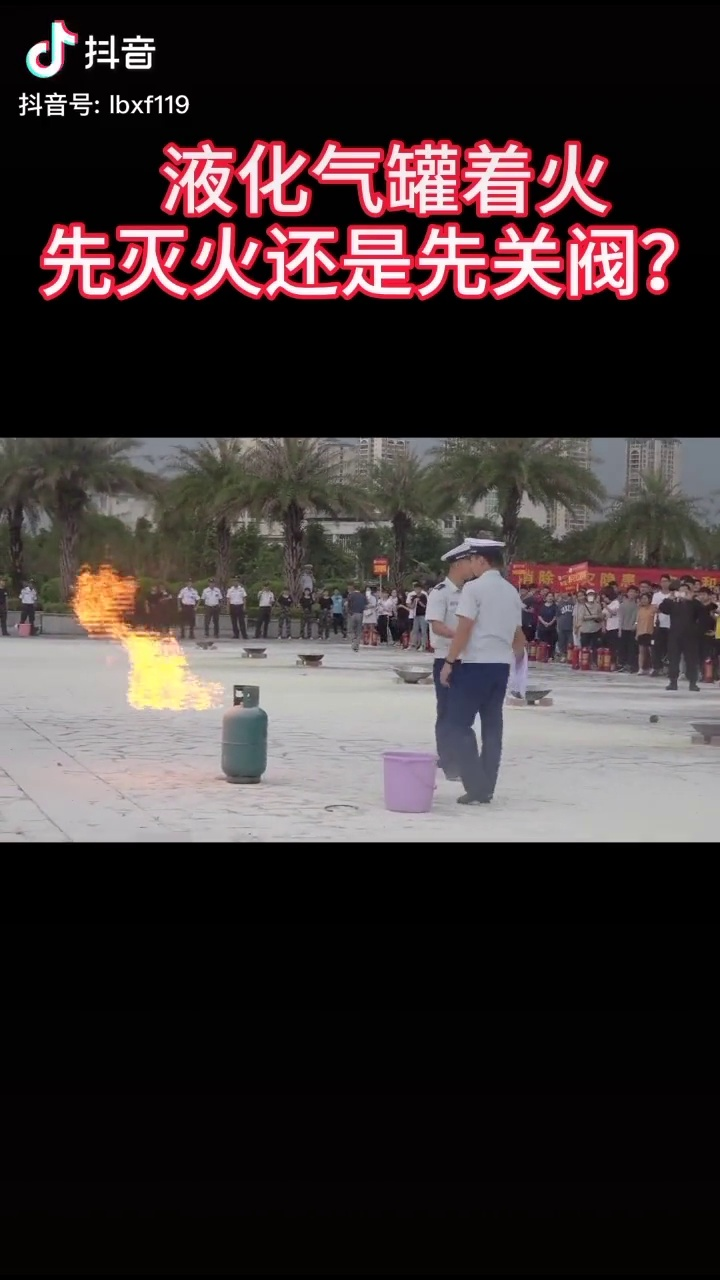fire: (66, 567, 210, 710)
